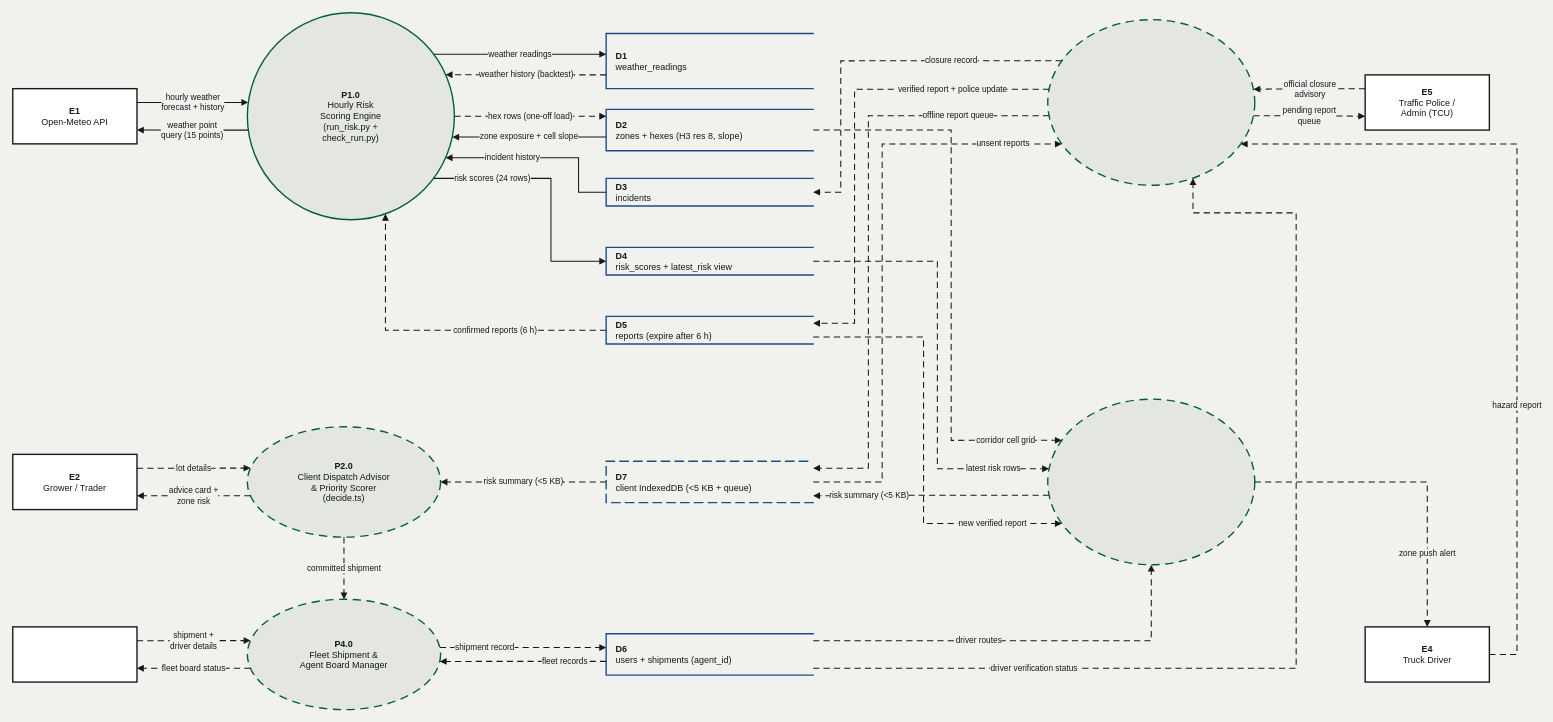
This 1553x722 diagram has some shape labels left out. The shapes that lost their labels are listed below. From the top down, each one's centre as x and y in pixels, then its label:
At point 1151,102: "P3.0 Hazard Report Intake, Verification & Expiry Engine".
At point 1151,481: "P5.0 Offline Cache Sync & Web-Push Alert Dispatcher".
At point 74,654: "E3 Transport Agent".
